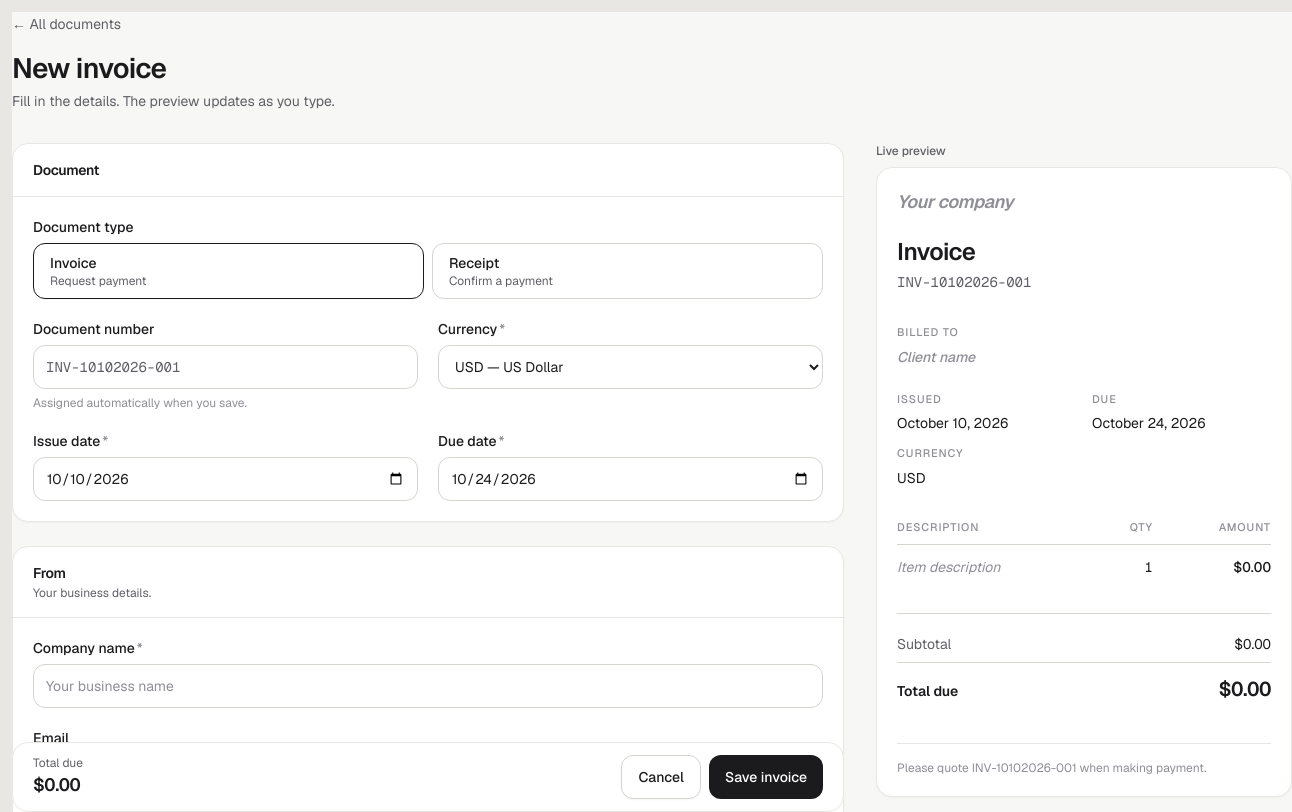
it: InvoiceForm: validation › shows a field's error once it has been left, not while typing
Step 1. Click the field labelled "Company name" → (428, 686), box [33,664,823,708]
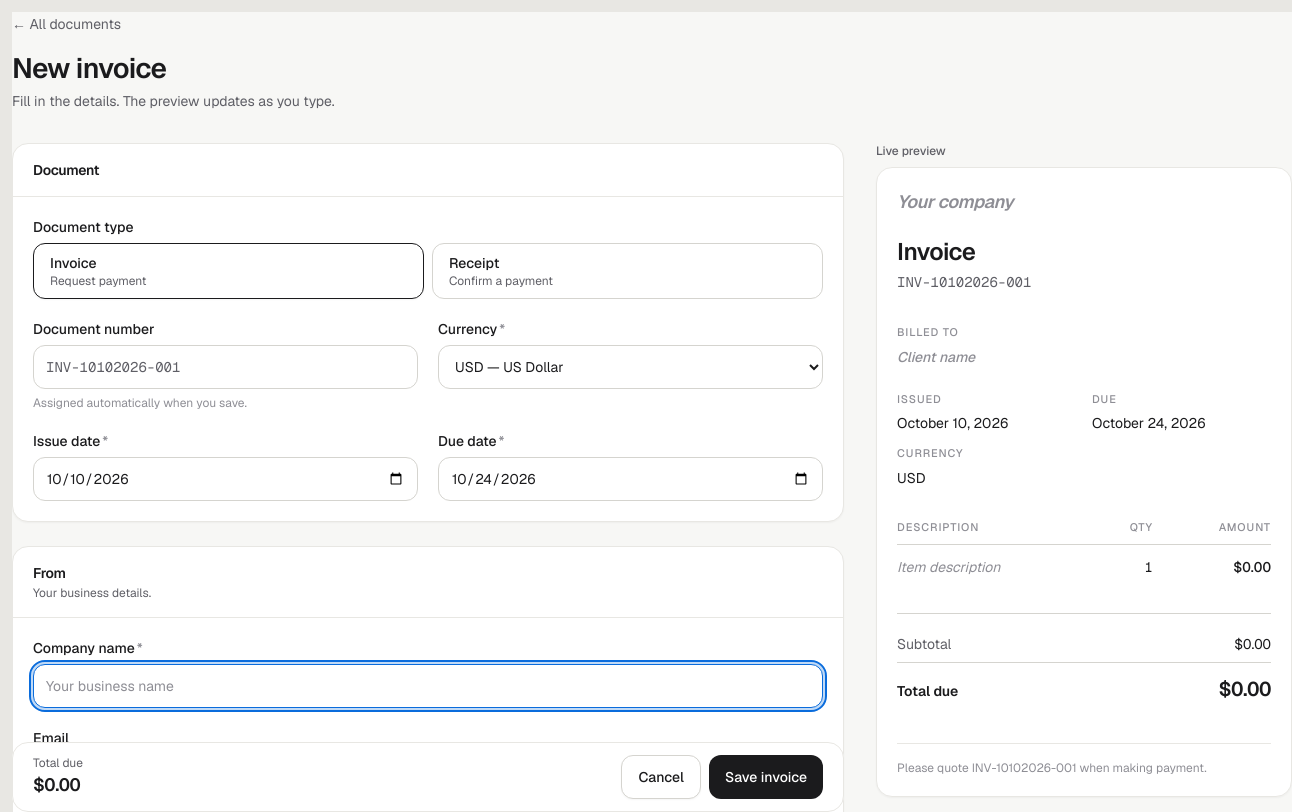
Expected: the text "Company name is required." is not shown
Step 2. Press Tab
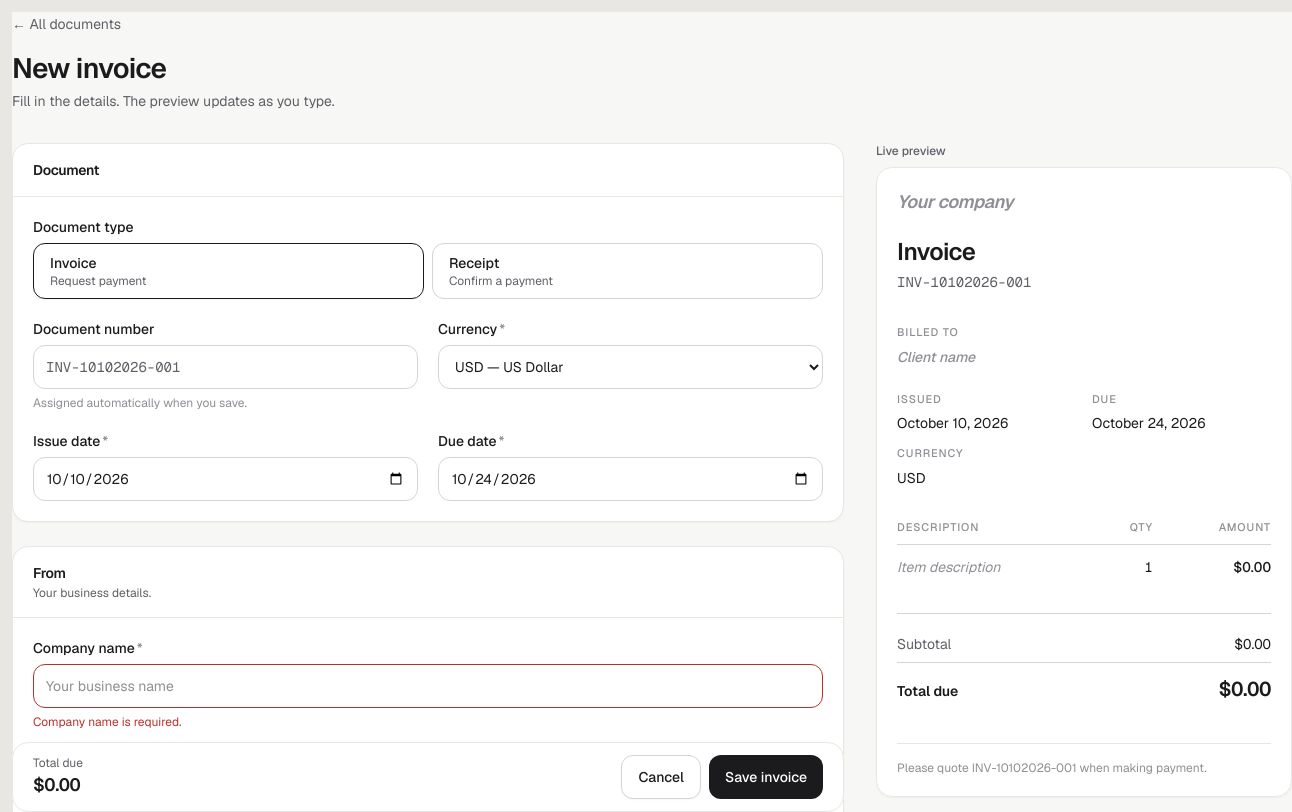
Result: the text "Company name is required." is shown at [33,714,182,730]
